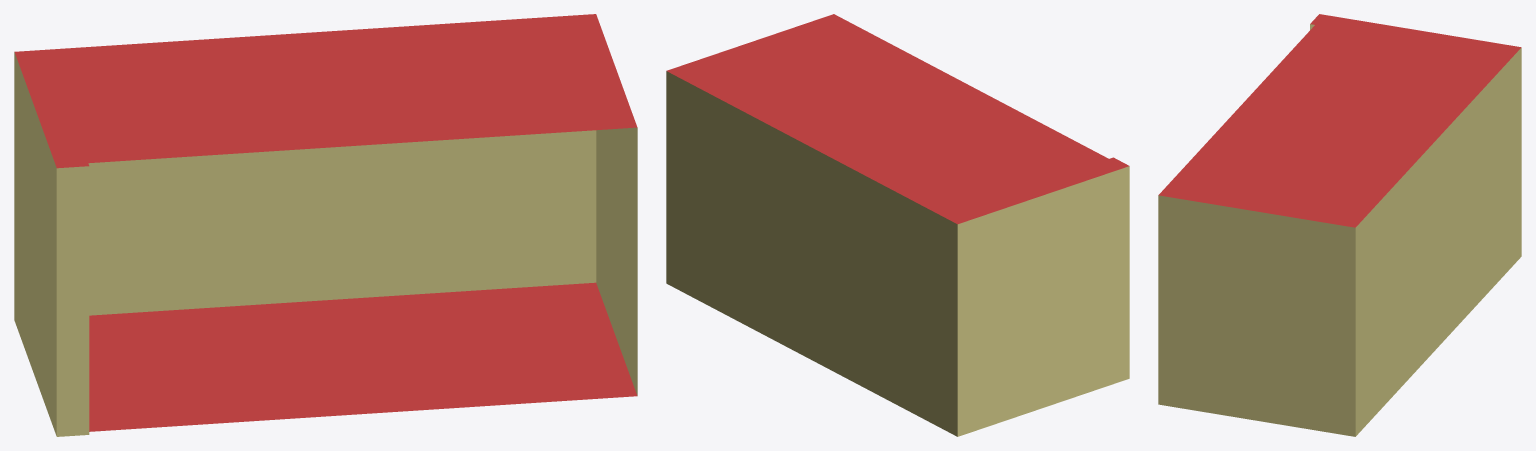
3 views of the same model, side by side, from view 1: azimuth 30°, elevation 25°; view 2: azimuth 150°, elevation 25°; view 3: azimuth 270°, elevation 25° (orthographic). The views are drawn at different scales.
Visible parts, largest first — view 1: group_4, group_3, group_5; view 2: group_4, group_3; view 3: group_4, group_3.
Boxes of the visible parts, x1,y1,x2,y2 form: group_4: [14, 52, 637, 436]; group_3: [14, 14, 637, 168]; group_5: [89, 282, 637, 431]; group_4: [666, 71, 1129, 436]; group_3: [666, 14, 1128, 224]; group_4: [1158, 24, 1521, 436]; group_3: [1158, 14, 1521, 227].
Size of the model in its own units: 12.2 by 8.76 by 5.57.
